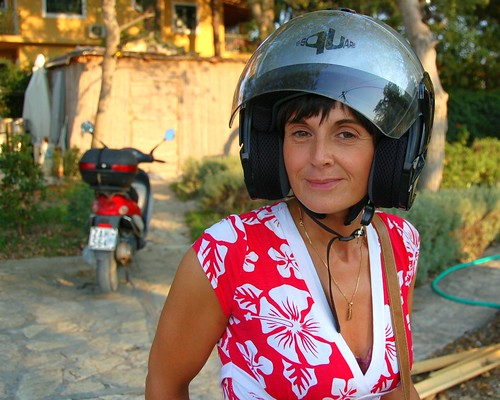helmet: (230, 4, 428, 212)
